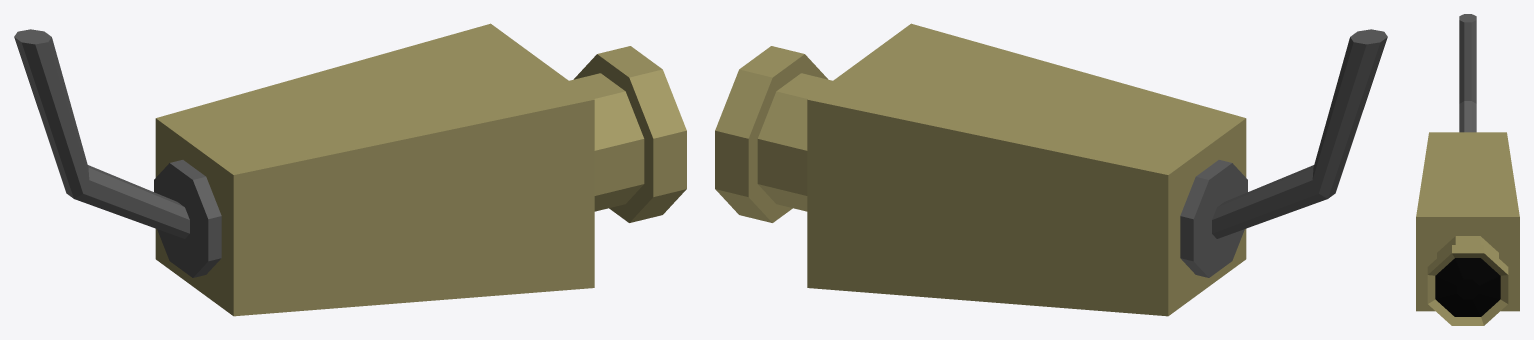
File: camera.fbx
3 renders of one model, left to right at view 1: azimuth 30°, elevation 25°; view 2: azimuth 150°, elevation 25°; view 3: azimuth 270°, elevation 25°, orthographic. The views are drawn at different scales.
Visible parts, largest first — view 1: Cube; view 2: Cube; view 3: Cube.
Part boxes in pixels (x1,y1,x2,y2): Cube: (14, 23, 686, 316); Cube: (715, 23, 1387, 316); Cube: (1416, 14, 1519, 325).
Size of the model in its own units: 933 by 480 by 267.
